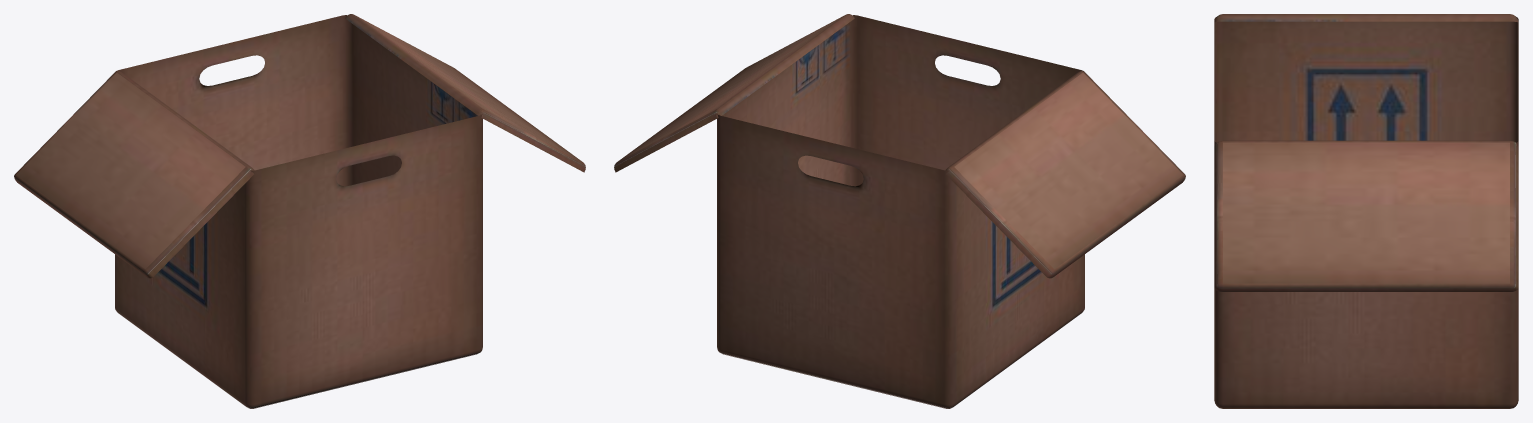
Rendered from BOXopen2.glb.
The picture shows the model from 3 angles, left to right: view 1: azimuth 30°, elevation 25°; view 2: azimuth 150°, elevation 25°; view 3: azimuth 270°, elevation 25°; orthographic projection. The views are drawn at different scales.
Parts seen in each view (by area): view 1: Cube; view 2: Cube; view 3: Cube.
Part boxes in pixels (x1,y1,x2,y2): Cube: (14,14,585,408); Cube: (614,14,1185,408); Cube: (1214,14,1518,408).
Size of what is drawn, in the model's own units: 3.71 by 1.96 by 2.
Materials: 1 (1 with a texture image).
